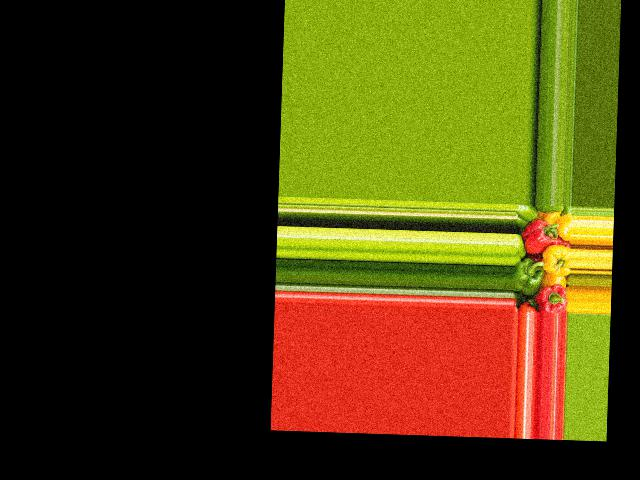bell_pepper: (534, 279, 568, 313)
